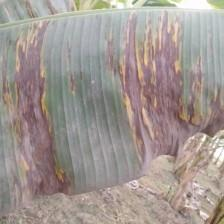sigatoka: (0, 7, 224, 216)
